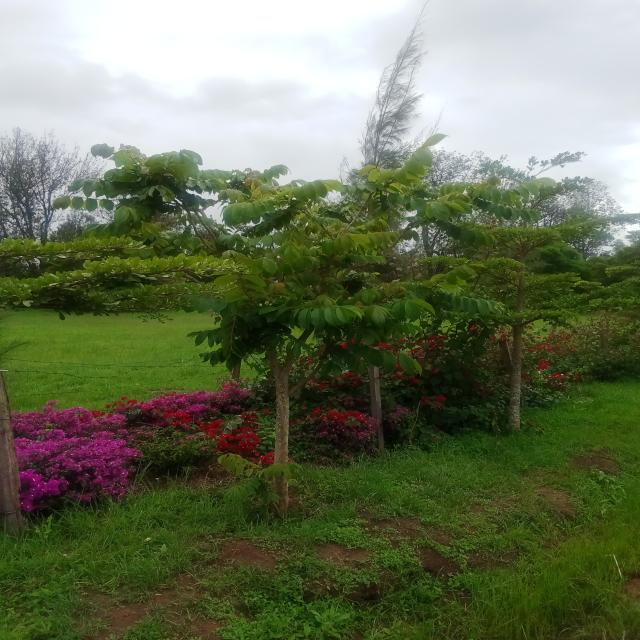Polyscias Kikuyensis: (88, 138, 511, 545)
